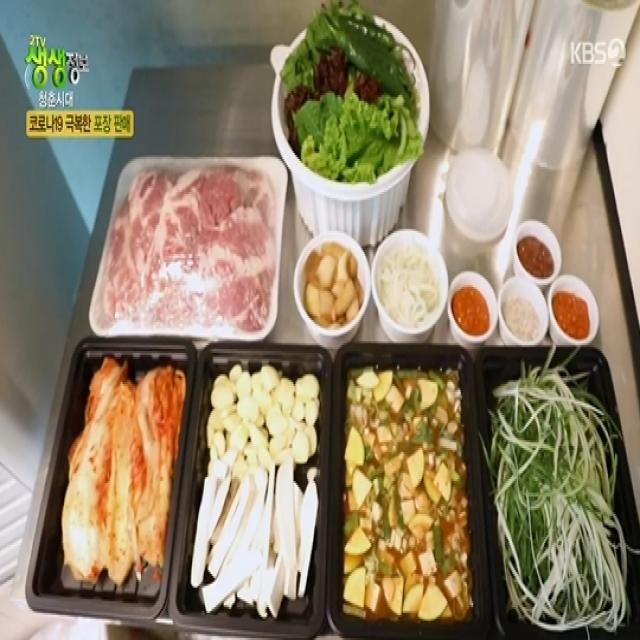pork: (87, 151, 299, 353)
